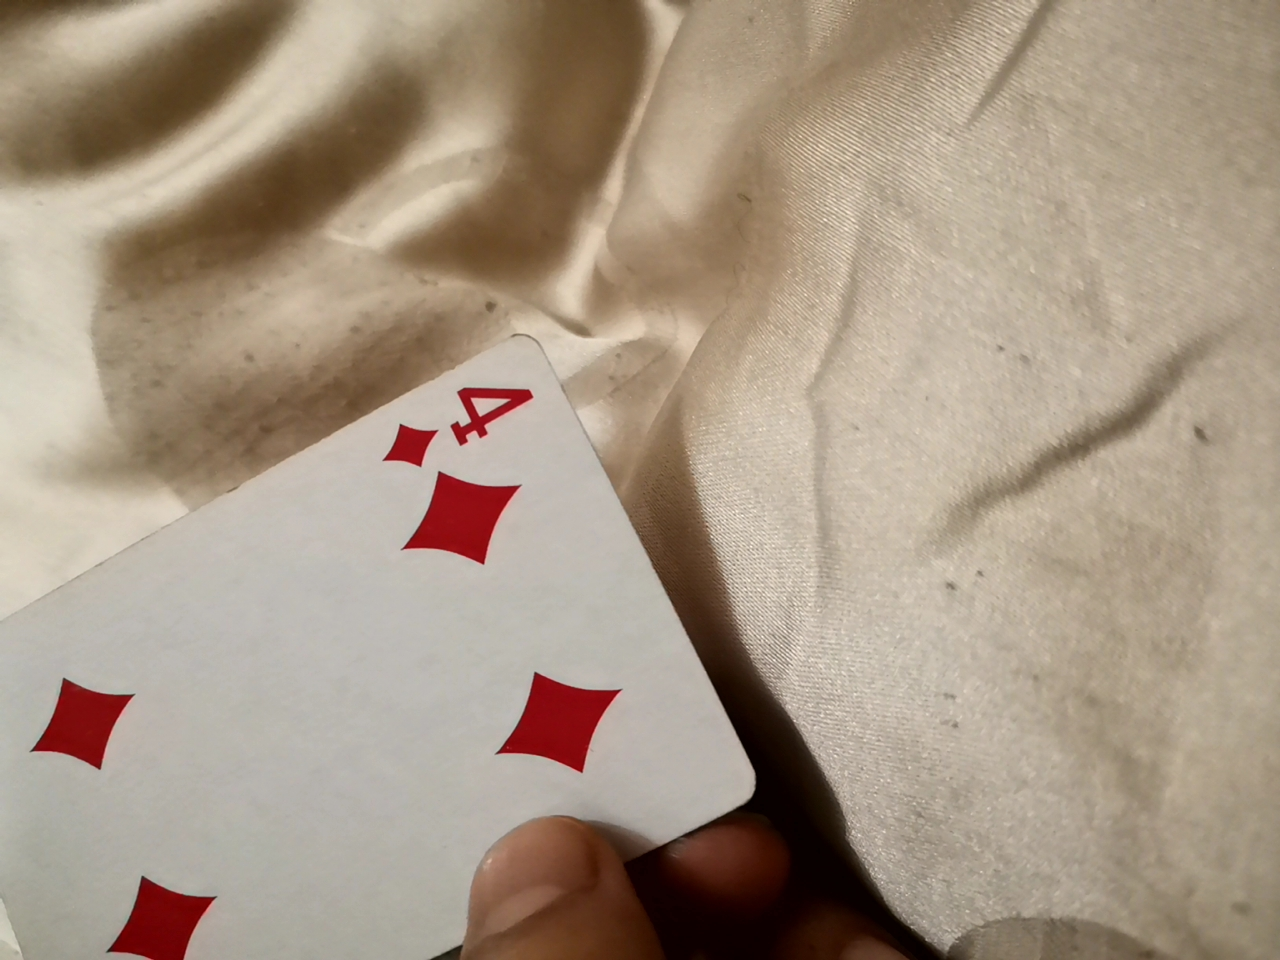fk 4: (5, 333, 770, 946)
